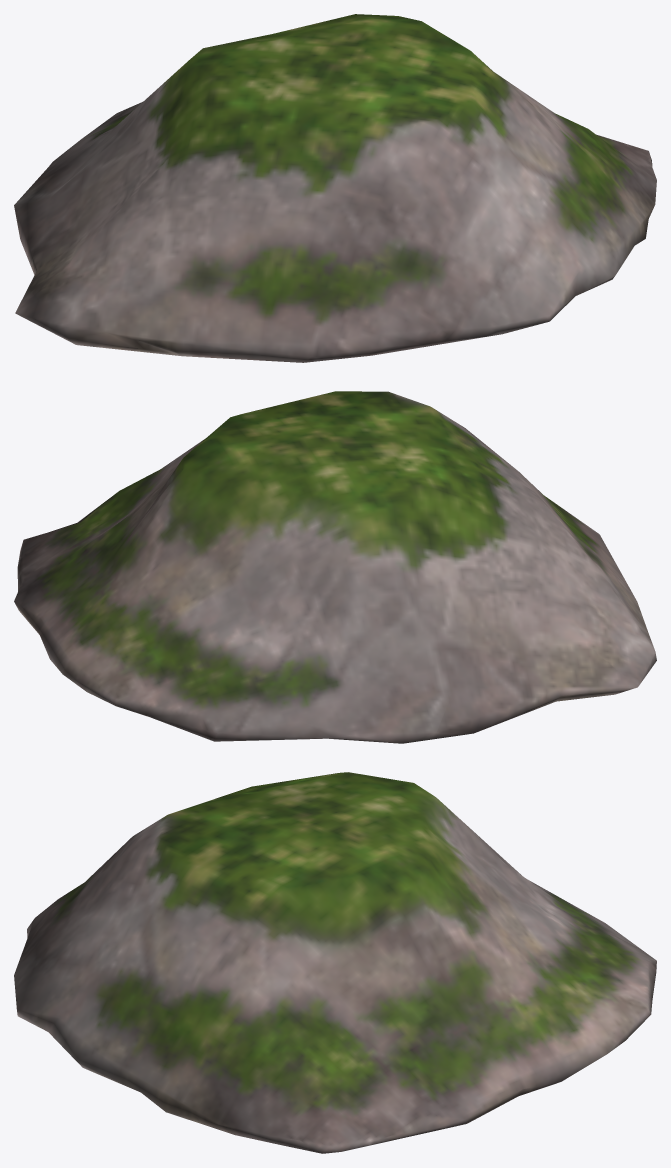
File: land_rock_01.fbx
The picture shows the model from 3 angles, top to bottom: view 1: azimuth 30°, elevation 25°; view 2: azimuth 150°, elevation 25°; view 3: azimuth 270°, elevation 25°; orthographic projection. The views are drawn at different scales.
Parts seen in each view (by area): view 1: land_rock_01; view 2: land_rock_01; view 3: land_rock_01.
Part boxes in pixels (x1,y1,x2,y2): land_rock_01: (14, 14, 656, 362); land_rock_01: (14, 391, 656, 743); land_rock_01: (14, 772, 656, 1153).
Bounding box in the file's own units: 23.31 × 8.04 × 20.39.
